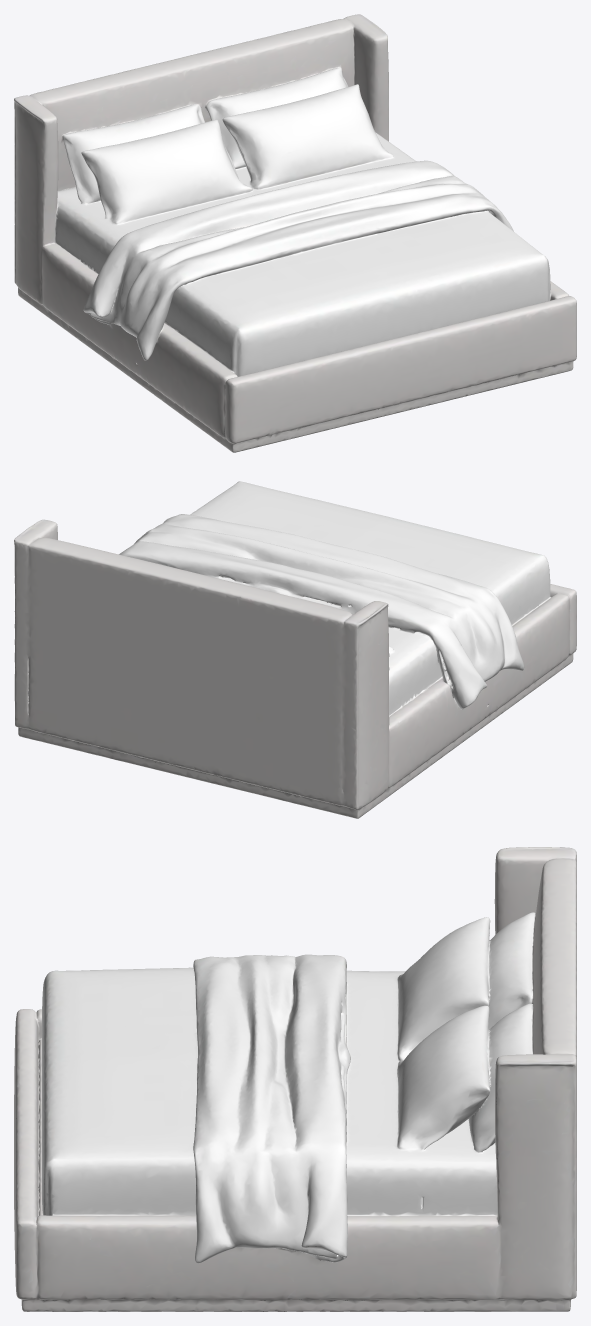
File: bed.glb
3 renders of one model, top to bottom at view 1: azimuth 30°, elevation 25°; view 2: azimuth 150°, elevation 25°; view 3: azimuth 270°, elevation 25°, orthographic. The views are drawn at different scales.
Visible parts, largest first — view 1: world; view 2: world; view 3: world.
Part boxes in pixels (left/top/right/bottom): world: left=14, top=14, right=576, bottom=452; world: left=14, top=481, right=576, bottom=818; world: left=14, top=847, right=576, bottom=1311.
Bounding box in the file's own units: 0.9936 × 0.4831 × 0.9745.
Materials: 1 (1 with a texture image).
